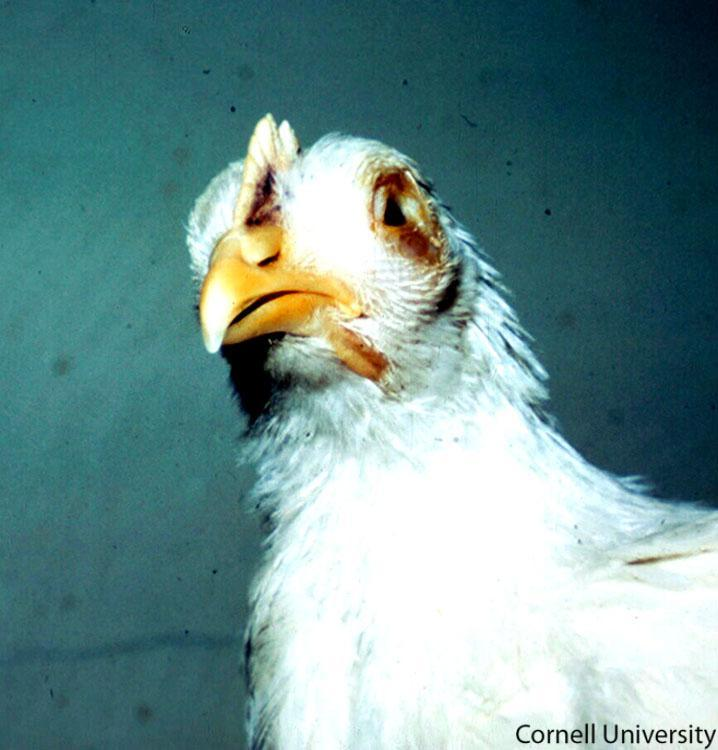AbNormal: (182, 113, 718, 750)
